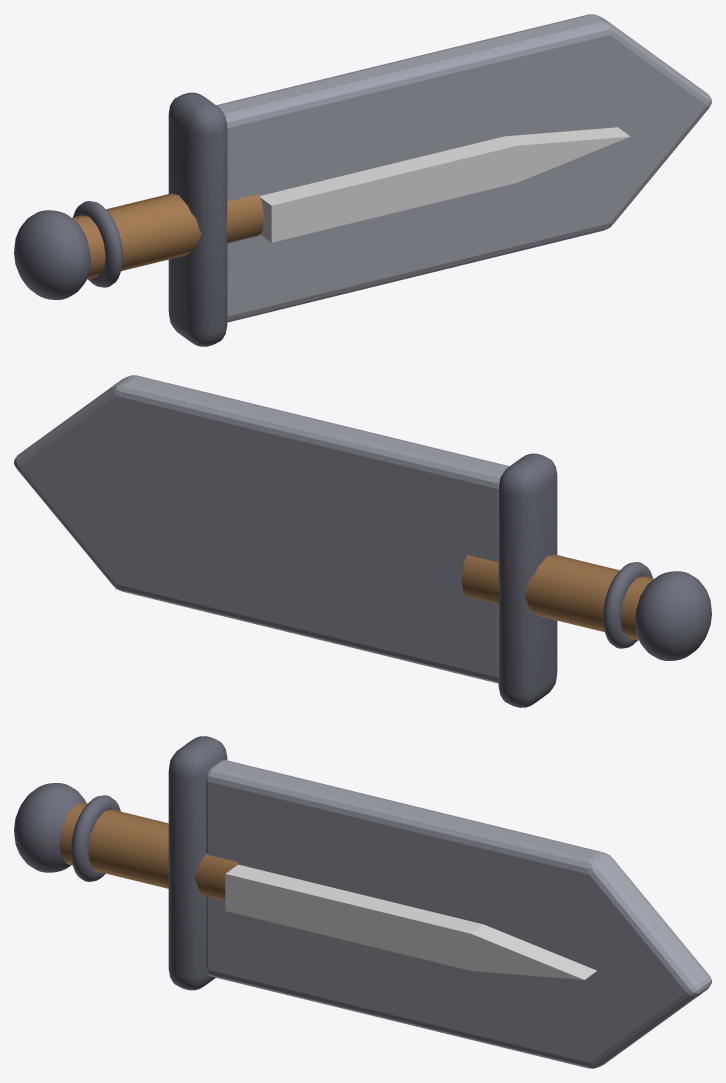
File: wpn_stonesword.glb
3 views of the same model, one above another, from view 1: azimuth 30°, elevation 25°; view 2: azimuth 150°, elevation 25°; view 3: azimuth 330°, elevation 25° (orthographic).
Size of the model in its own units: 1.08 by 0.3625 by 0.1257.
